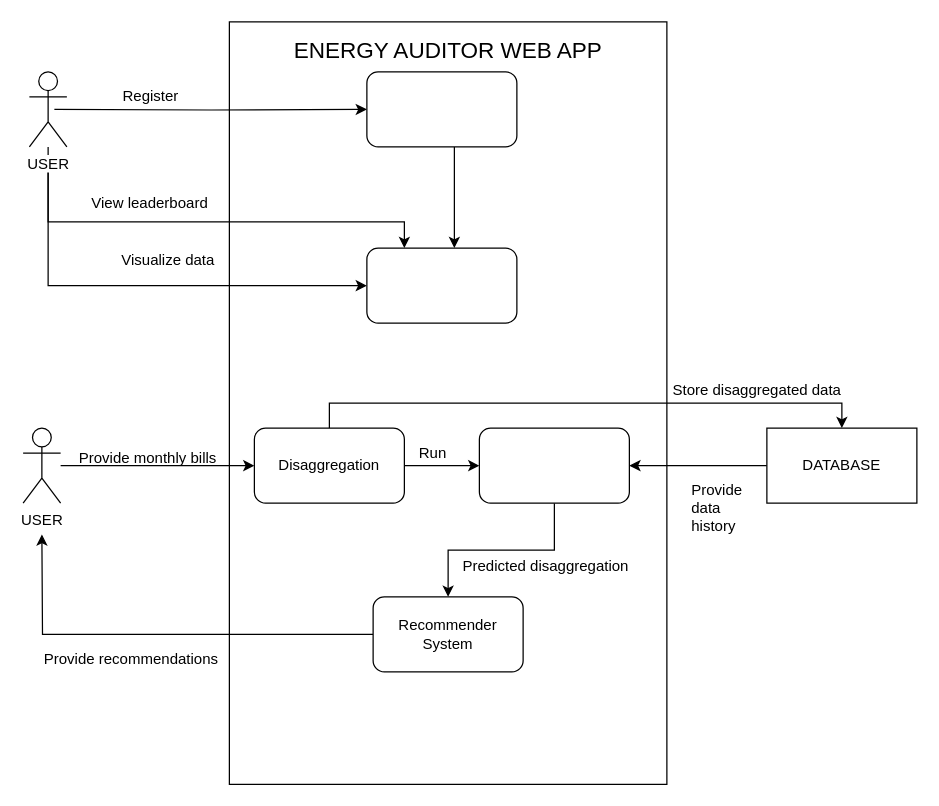
This 939x806 diagram has some shape labels left out. Each missing label, with the centre of its shape:
"Dashboard" goes at (441,285).
"Model" goes at (553,465).
"Registration" goes at (441,109).
